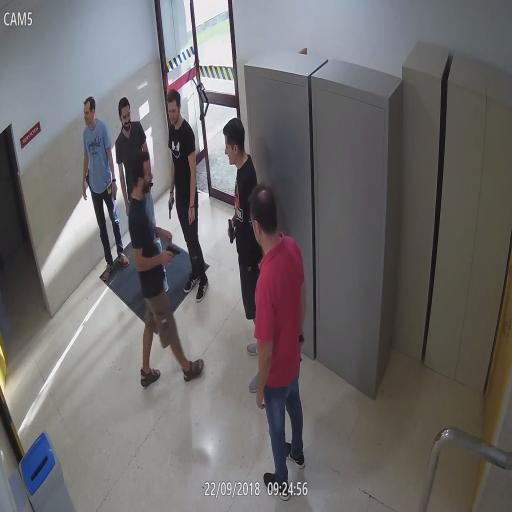Handgun: (161, 240, 181, 267), (226, 218, 236, 250), (166, 193, 176, 222), (84, 164, 92, 194), (298, 331, 306, 361)
